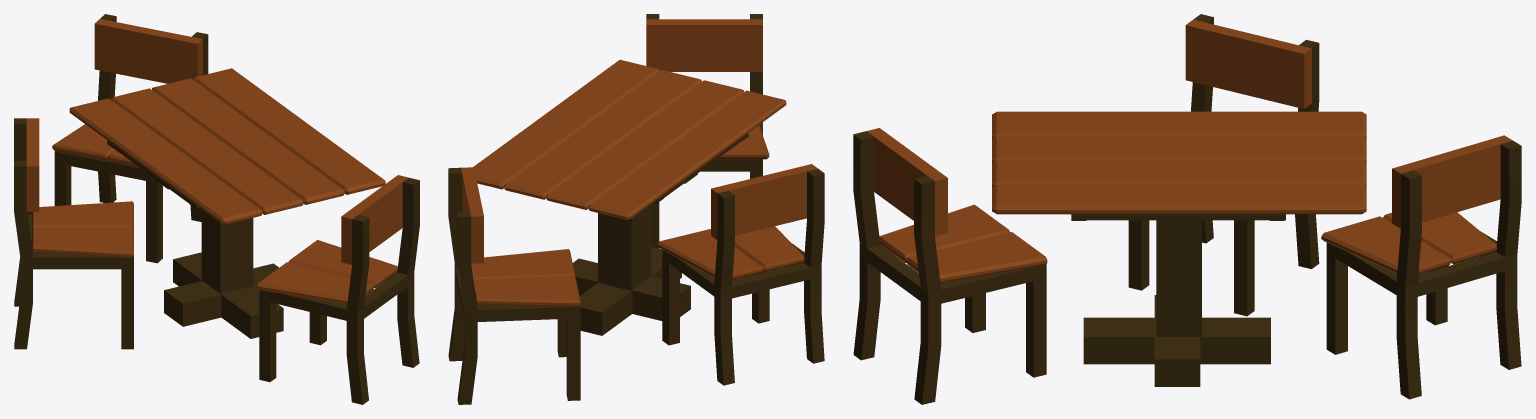
File: sto za troje.FBX
The picture shows the model from 3 angles, left to right: view 1: azimuth 30°, elevation 25°; view 2: azimuth 150°, elevation 25°; view 3: azimuth 270°, elevation 25°; orthographic projection. The views are drawn at different scales.
Parts seen in each view (by area): view 1: Box1684, Box1718, Box1713, Box1707, Box1724, Box1725, Box1726, Box1723; view 2: Box1684, Box1726, Box1713, Box1725, Box1723, Box1707, Box1724, Box1718; view 3: Box1684, Box1713, Box1723, Box1718, Box1724, Box1707, Box1725, Box1726.
Boxes of the visible parts, box(x1,y1,x2,y2) form: Box1684: box(69, 68, 385, 224); Box1718: box(259, 177, 419, 404); Box1713: box(107, 140, 283, 338); Box1707: box(257, 175, 408, 304); Box1724: box(52, 19, 202, 167); Box1725: box(26, 118, 133, 257); Box1726: box(14, 118, 133, 349); Box1723: box(54, 14, 208, 263); Box1684: box(473, 59, 786, 220); Box1726: box(662, 168, 824, 385); Box1713: box(572, 133, 748, 335); Box1725: box(657, 164, 817, 280); Box1723: box(448, 167, 580, 404); Box1707: box(646, 19, 769, 159); Box1724: box(461, 167, 580, 306); Box1718: box(646, 14, 762, 248); Box1684: box(992, 111, 1366, 214); Box1713: box(1071, 214, 1285, 386); Box1723: box(1326, 140, 1521, 399); Box1718: box(853, 131, 1046, 404); Box1724: box(1321, 135, 1512, 274); Box1707: box(866, 128, 1047, 282); Box1725: box(1185, 19, 1311, 108); Box1726: box(1128, 14, 1319, 316).
Size of the model in its own units: 133 by 80 by 220.
